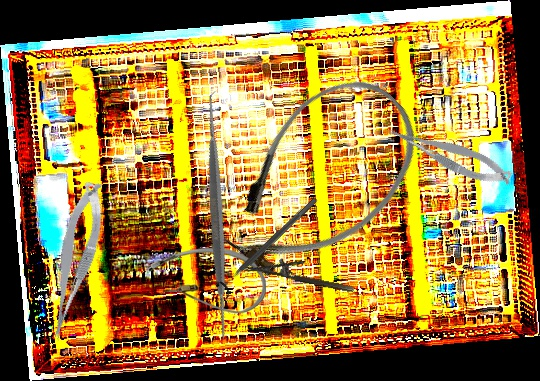Cannula: (192, 53, 445, 306), (148, 248, 266, 314)
Fixation Ring: (212, 191, 324, 300)
Micro Scissor: (29, 176, 119, 345), (385, 110, 516, 198)
Needle Holder: (244, 249, 358, 294)
Spatula Surgical: (84, 83, 351, 350)
